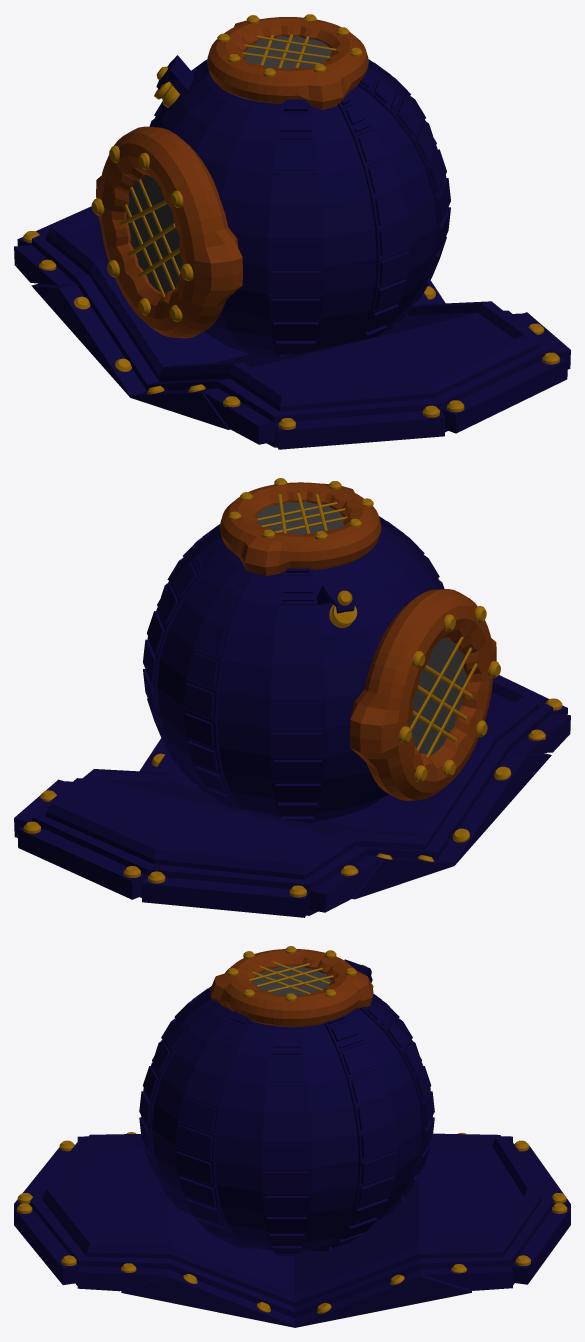
File: capaceteafundadoFBX1.fbx
3 views of the same model, one above another, from view 1: azimuth 30°, elevation 25°; view 2: azimuth 150°, elevation 25°; view 3: azimuth 270°, elevation 25° (orthographic). The views are drawn at different scales.
Parts seen in each view (by area): view 1: Cylinder.001; view 2: Cylinder.001; view 3: Cylinder.001.
Part boxes in pixels (left/top/right/bottom): Cylinder.001: left=14, top=14, right=570, bottom=449; Cylinder.001: left=14, top=478, right=570, bottom=917; Cylinder.001: left=14, top=946, right=570, bottom=1327.
Bounding box in the file's own units: 169 × 165 × 282.
